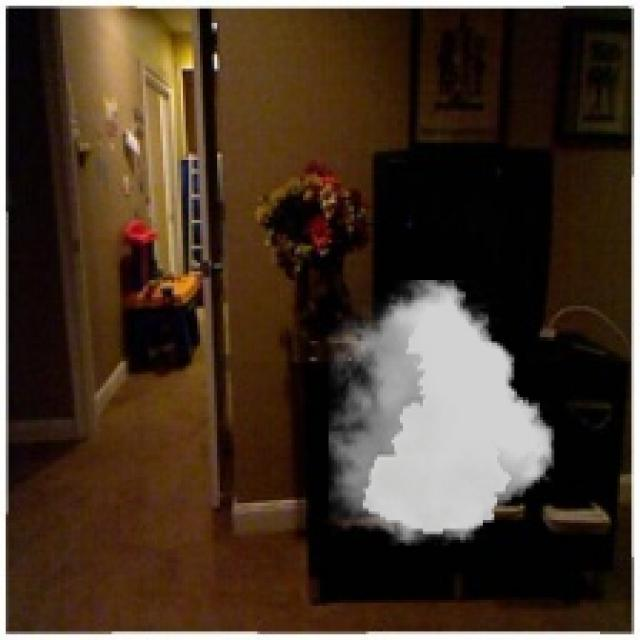smoke: (329, 280, 554, 546)
